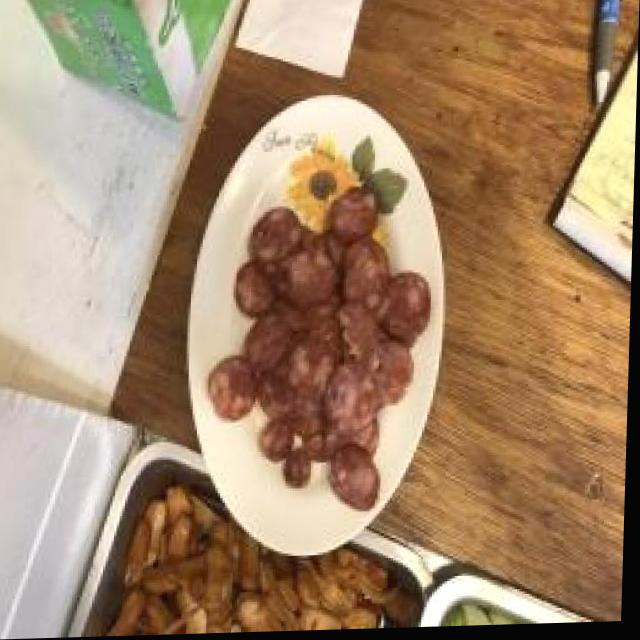chinese_sausage: (215, 188, 430, 518)
